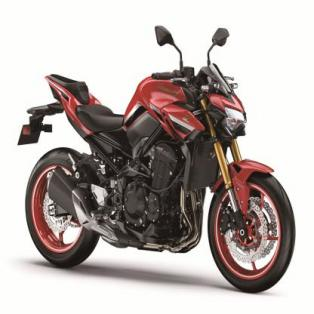Motocicleta: (12, 8, 299, 294)
